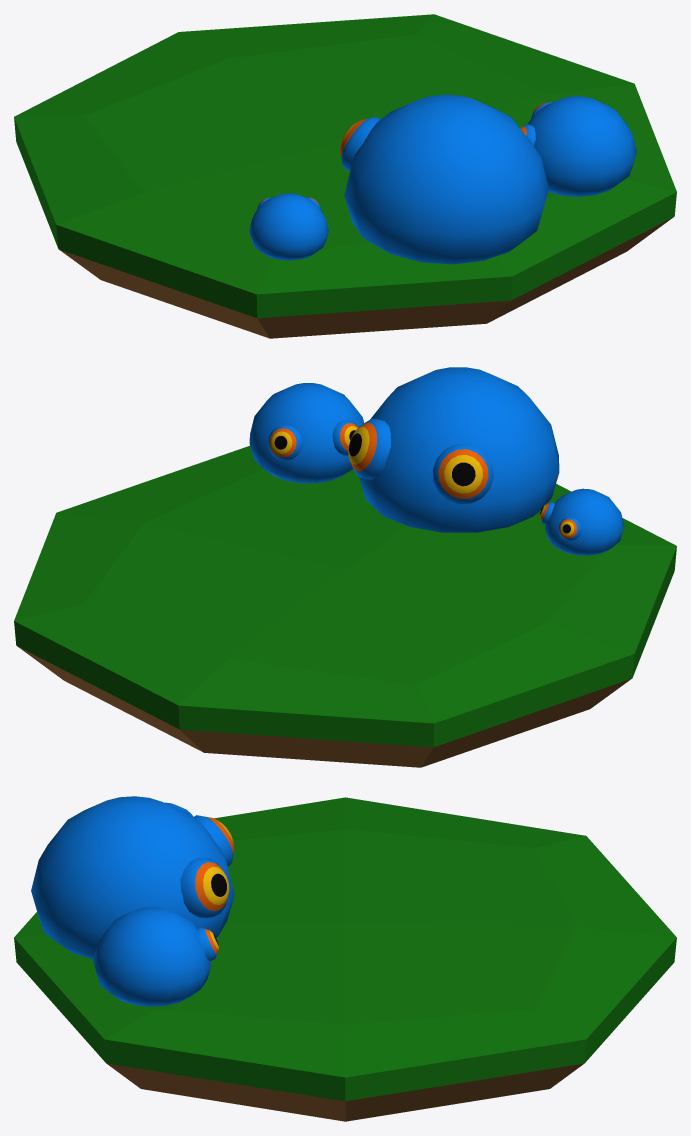
Rendered from Escenario_2.fbx.
3 views of the same model, one above another, from view 1: azimuth 30°, elevation 25°; view 2: azimuth 150°, elevation 25°; view 3: azimuth 270°, elevation 25° (orthographic).
Visible parts, largest first — view 1: Terreno, Chchu_2, Chchu_0, Chchu_1; view 2: Terreno, Chchu_2, Chchu_0, Chchu_1; view 3: Terreno, Chchu_2, Chchu_0.
Part boxes in pixels (x1=…): Terreno: x1=14, y1=14, x2=676, y2=338; Chchu_2: x1=340, y1=94, x2=548, y2=264; Chchu_0: x1=520, y1=96, x2=636, y2=196; Chchu_1: x1=249, y1=193, x2=328, y2=260; Terreno: x1=14, y1=446, x2=676, y2=767; Chchu_2: x1=348, y1=367, x2=559, y2=532; Chchu_0: x1=249, y1=383, x2=363, y2=483; Chchu_1: x1=539, y1=488, x2=623, y2=555; Terreno: x1=14, y1=797, x2=676, y2=1121; Chchu_2: x1=31, y1=796, x2=234, y2=959; Chchu_0: x1=93, y1=907, x2=218, y2=1006.
Size of the model in its own units: 377 by 153 by 377.
